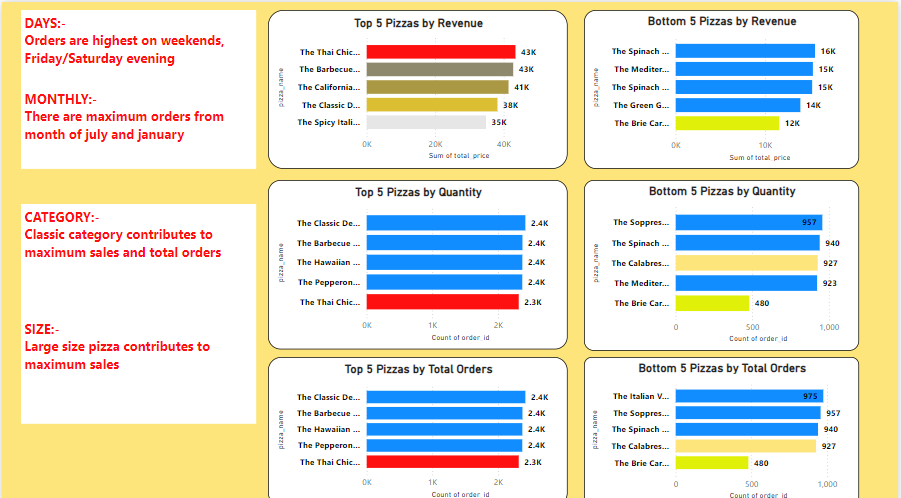

The page's visual inventory and layout, read from the dashboard file:
{"tool":"powerbi","page":{"name":"Complete Dashboard page2","canvas":[1280,720],"ordinal":1},"visuals":[{"type":"textbox","box":[26.9,11.8,336,226.8],"z":0},{"type":"textbox","box":[26.9,288.9,336,314.1],"z":1000},{"type":"clusteredBarChart","title":"Top 5 Pizzas by Revenue","fields":{"Y":["Sum(pizza_sales.total_price)"],"Category":["pizza_sales.pizza_name"]},"box":[379.6,11.8,428.3,226.8],"z":2000},{"type":"clusteredBarChart","title":"Top 5 Pizzas by Quantity","fields":{"Y":["CountNonNull(pizza_sales.order_id)"],"Category":["pizza_sales.pizza_name"]},"box":[379.6,253.6,428.3,241.9],"z":3000},{"type":"clusteredBarChart","title":"Top 5 Pizzas by Total Orders","fields":{"Category":["pizza_sales.pizza_name"],"Y":["CountNonNull(pizza_sales.order_id)"]},"box":[379.6,507.3,428.3,213.3],"z":4000},{"type":"clusteredBarChart","title":"Bottom 5 Pizzas by Revenue","fields":{"Y":["Sum(pizza_sales.total_price)"],"Category":["pizza_sales.pizza_name"]},"box":[831.5,11.8,393.1,226.8],"z":5000},{"type":"clusteredBarChart","title":"Bottom 5 Pizzas by Quantity","fields":{"Y":["CountNonNull(pizza_sales.order_id)"],"Category":["pizza_sales.pizza_name"]},"box":[831.5,253.6,393.1,243.6],"z":6000},{"type":"clusteredBarChart","title":"Bottom 5 Pizzas by Total Orders","fields":{"Category":["pizza_sales.pizza_name"],"Y":["CountNonNull(pizza_sales.order_id)"]},"box":[831.5,507.3,393.1,213.3],"z":7000}]}

Visuals, with their boxes in screenshot pixels (x1, y1, x2, y2), scaled from the page's 1280x720 canvas onto the 901x498 screenshot:
textbox: 19,8,255,165
textbox: 19,200,255,417
"Top 5 Pizzas by Revenue" clusteredBarChart: 267,8,569,165
"Top 5 Pizzas by Quantity" clusteredBarChart: 267,175,569,343
"Top 5 Pizzas by Total Orders" clusteredBarChart: 267,351,569,497
"Bottom 5 Pizzas by Revenue" clusteredBarChart: 585,8,862,165
"Bottom 5 Pizzas by Quantity" clusteredBarChart: 585,175,862,344
"Bottom 5 Pizzas by Total Orders" clusteredBarChart: 585,351,862,497
